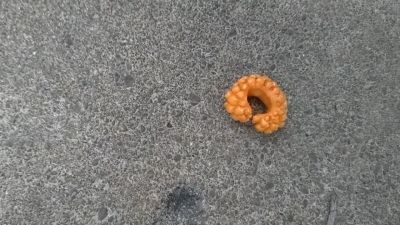eggs: (224, 72, 290, 136)
